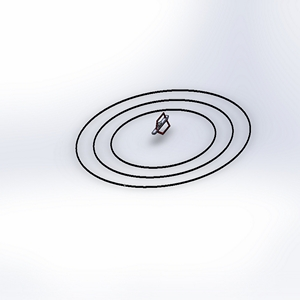circle: (67, 87, 257, 191)
submarine: (144, 111, 180, 141)
